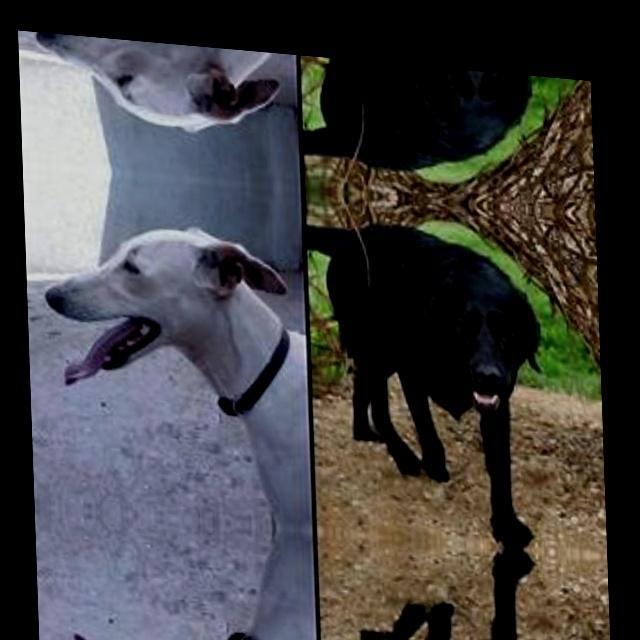dog: (315, 205, 565, 520), (36, 202, 310, 489), (310, 56, 554, 196), (30, 32, 298, 152), (47, 549, 316, 640), (328, 566, 570, 640)
